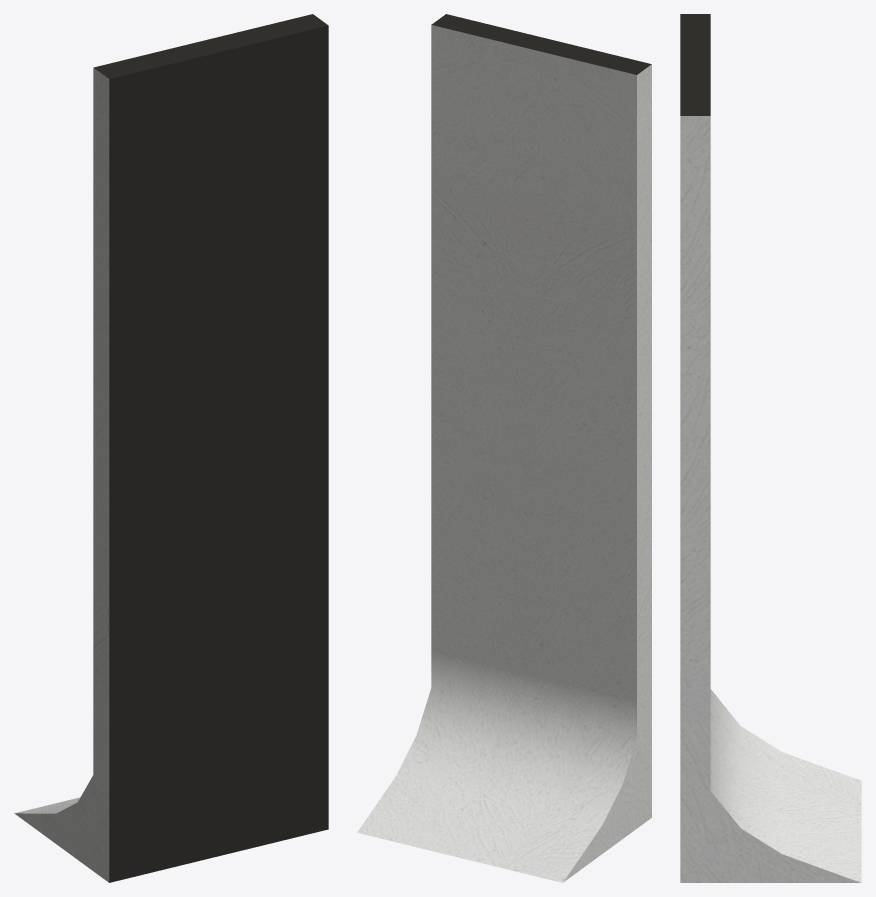
The model's file is VPS_Stage_SM.fbx.
The picture shows the model from 3 angles, left to right: view 1: azimuth 30°, elevation 25°; view 2: azimuth 150°, elevation 25°; view 3: azimuth 270°, elevation 25°; orthographic projection. The views are drawn at different scales.
Visible parts, largest first — view 1: CURVED_Wall_Single; view 2: CURVED_Wall_Single; view 3: CURVED_Wall_Single.
Boxes of the visible parts, x1,y1,x2,y2 form: CURVED_Wall_Single: [14, 14, 328, 882]; CURVED_Wall_Single: [357, 14, 651, 882]; CURVED_Wall_Single: [680, 14, 861, 882].
Bounding box in the file's own units: 2 × 7 × 1.5.
Materials: 2 (1 with a texture image).
